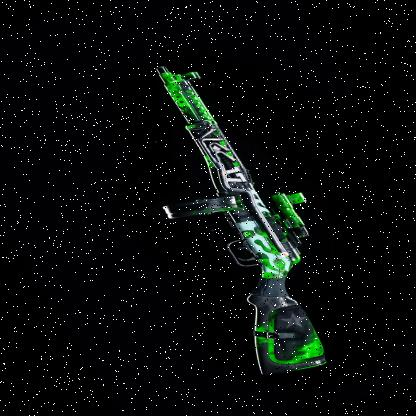rifle: (51, 48, 412, 382)
